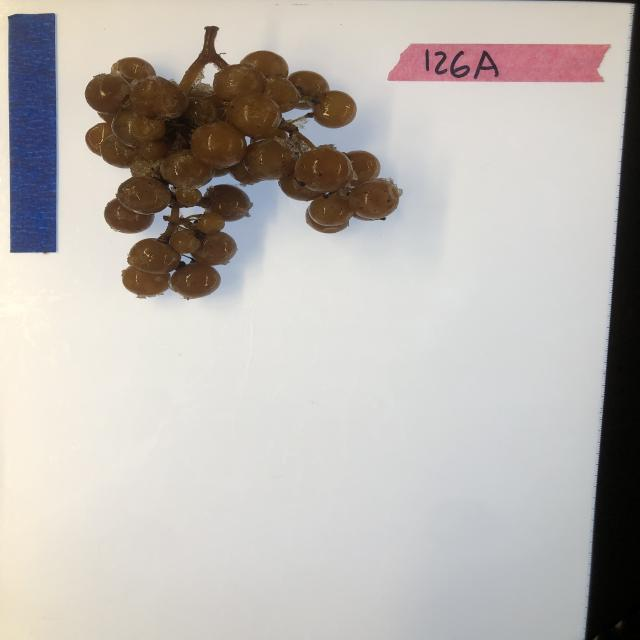grape_cluster: (82, 21, 403, 303)
index: (388, 40, 612, 85)
measure_label: (4, 11, 62, 256)
